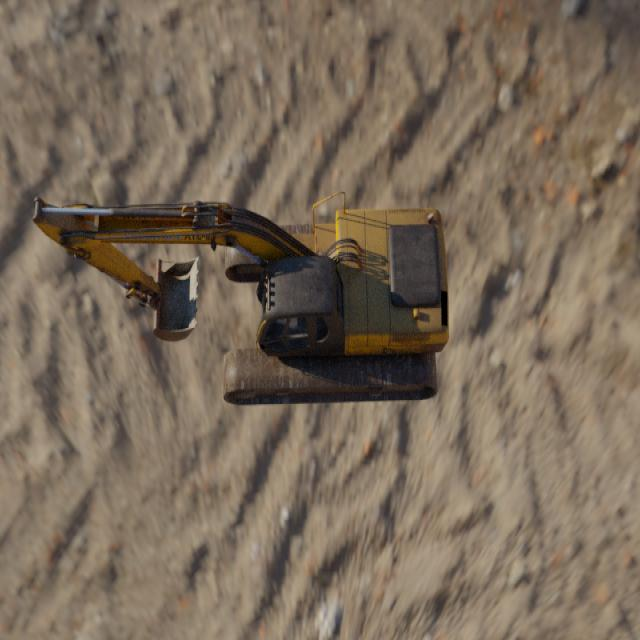excavator: (32, 196, 449, 405)
